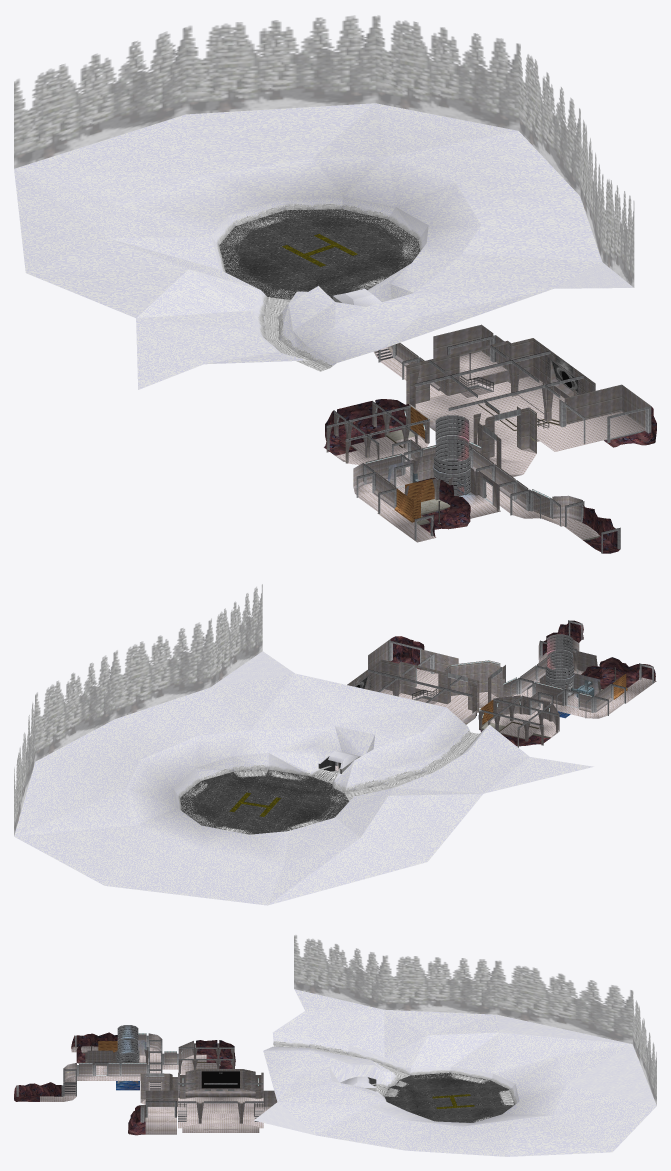
The model's file is BunkerSmall.glb.
3 renders of one model, top to bottom at view 1: azimuth 30°, elevation 25°; view 2: azimuth 150°, elevation 25°; view 3: azimuth 270°, elevation 25°, orthographic. The views are drawn at different scales.
Parts seen in each view (by area): view 1: BunkerSmall_55, BunkerSmall_1, BunkerSmall_Alpha_61, BunkerSmall_Alpha_62, BunkerSmall_59, BunkerSmall_Alpha_63, BunkerSmall_6, BunkerSmall_3, BunkerSmall_Alpha_64, BunkerSmall_29, BunkerSmall_56, BunkerSmall_Alpha_60 (+3 smaller); view 2: BunkerSmall_55, BunkerSmall_1, BunkerSmall_59, BunkerSmall_Alpha_61, BunkerSmall_Alpha_62, BunkerSmall_Alpha_63, BunkerSmall_56, BunkerSmall_3, BunkerSmall_6, BunkerSmall_29, BunkerSmall_Alpha_64, BunkerSmall_Alpha_60 (+2 smaller); view 3: BunkerSmall_55, BunkerSmall_1, BunkerSmall_6, BunkerSmall_Alpha_61, BunkerSmall_Alpha_62, BunkerSmall_Alpha_63, BunkerSmall_59, BunkerSmall_Alpha_64, BunkerSmall_29, BunkerSmall_56, BunkerSmall_3, BunkerSmall_0 (+3 smaller).
Part boxes in pixels (<box>): BunkerSmall_55: <box>14,103,633,389</box>; BunkerSmall_1: <box>326,324,650,521</box>; BunkerSmall_Alpha_61: <box>14,81,634,287</box>; BunkerSmall_Alpha_62: <box>14,58,634,264</box>; BunkerSmall_59: <box>219,209,420,299</box>; BunkerSmall_Alpha_63: <box>14,36,634,242</box>; BunkerSmall_6: <box>335,347,645,542</box>; BunkerSmall_3: <box>326,335,651,553</box>; BunkerSmall_Alpha_64: <box>14,15,634,220</box>; BunkerSmall_29: <box>324,399,656,553</box>; BunkerSmall_56: <box>211,196,428,368</box>; BunkerSmall_Alpha_60: <box>219,209,419,299</box>; BunkerSmall_55: <box>14,651,593,905</box>; BunkerSmall_1: <box>338,639,624,766</box>; BunkerSmall_59: <box>180,769,348,834</box>; BunkerSmall_Alpha_61: <box>14,634,262,835</box>; BunkerSmall_Alpha_62: <box>14,617,262,818</box>; BunkerSmall_Alpha_63: <box>14,600,262,801</box>; BunkerSmall_56: <box>173,725,488,815</box>; BunkerSmall_3: <box>335,620,653,765</box>; BunkerSmall_6: <box>335,652,656,770</box>; BunkerSmall_29: <box>389,620,655,746</box>; BunkerSmall_Alpha_64: <box>14,584,262,783</box>; BunkerSmall_Alpha_60: <box>180,769,348,834</box>; BunkerSmall_55: <box>254,989,656,1156</box>; BunkerSmall_1: <box>63,1033,277,1129</box>; BunkerSmall_6: <box>40,1046,270,1134</box>; BunkerSmall_Alpha_61: <box>294,975,656,1104</box>; BunkerSmall_Alpha_62: <box>294,961,656,1091</box>; BunkerSmall_Alpha_63: <box>294,948,656,1077</box>; BunkerSmall_59: <box>384,1072,514,1122</box>; BunkerSmall_Alpha_64: <box>294,935,656,1063</box>; BunkerSmall_29: <box>14,1032,235,1135</box>; BunkerSmall_56: <box>272,1032,519,1104</box>; BunkerSmall_3: <box>63,1025,263,1121</box>; BunkerSmall_0: <box>148,1064,239,1088</box>.
Size of the model in its own units: 536 by 158 by 873.
65 materials, 64 textured.
